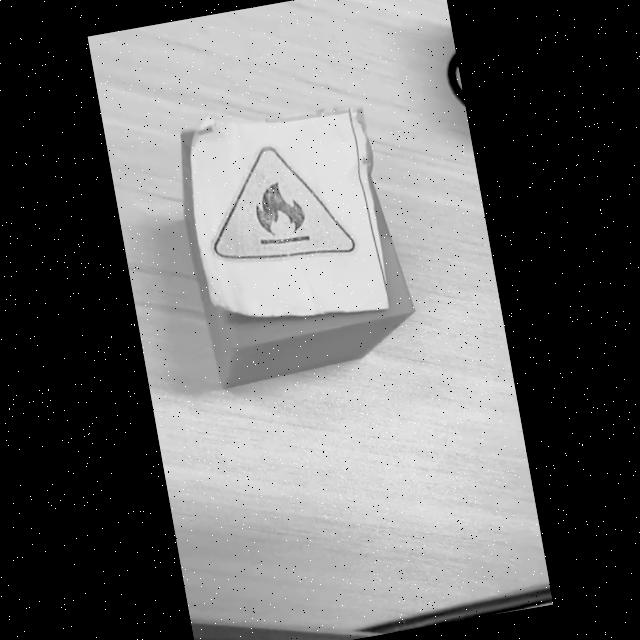Fire: (208, 144, 355, 270)
